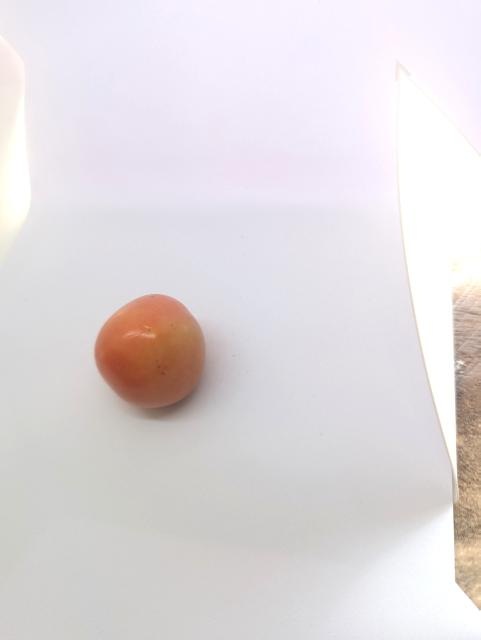turning: (84, 286, 216, 423)
